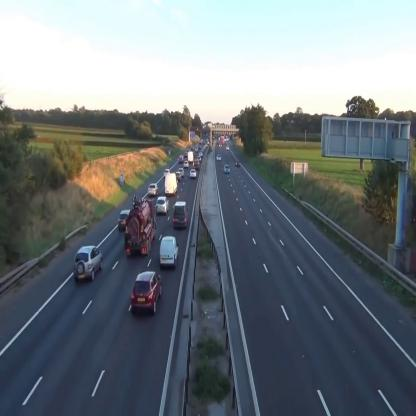car: (131, 272, 161, 314), (74, 245, 104, 280), (118, 210, 131, 229), (156, 196, 169, 214), (148, 184, 159, 196), (224, 164, 230, 173), (190, 169, 196, 177)
lorry: (126, 199, 156, 255), (160, 236, 178, 268), (173, 201, 189, 229), (165, 172, 178, 195)
